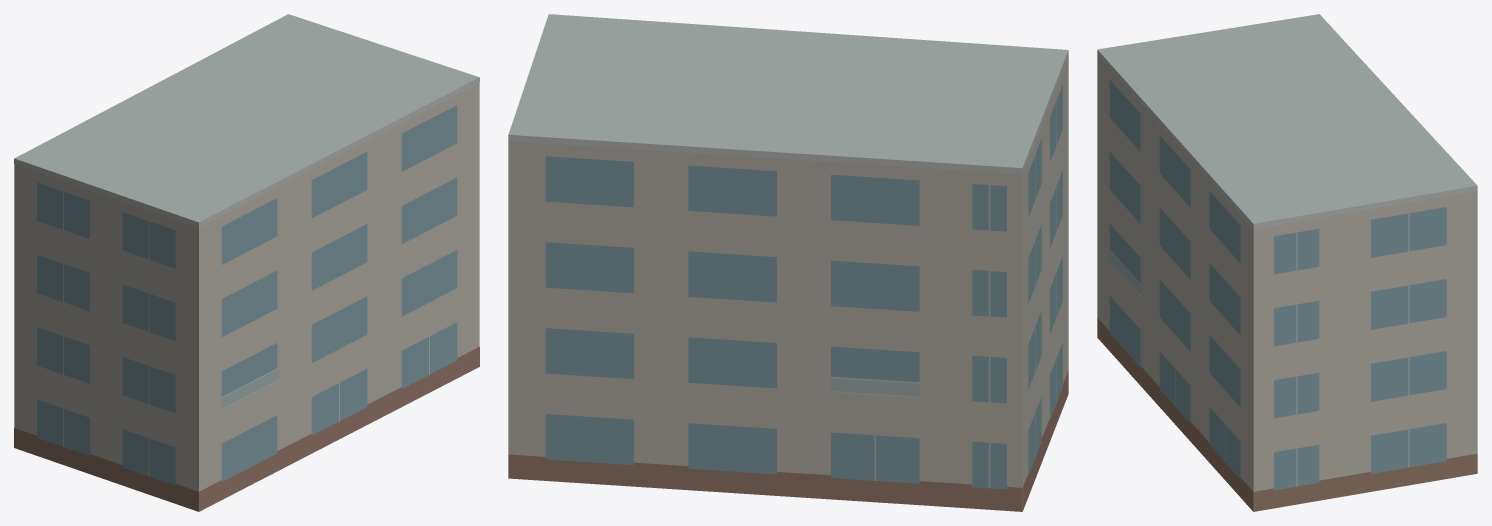
The model's file is survey-upis-33014594.glb.
The picture shows the model from 3 angles, left to right: view 1: azimuth 30°, elevation 25°; view 2: azimuth 150°, elevation 25°; view 3: azimuth 270°, elevation 25°; orthographic projection. The views are drawn at different scales.
Parts seen in each view (by area): view 1: survey-upis-33014594.tmp; view 2: survey-upis-33014594.tmp; view 3: survey-upis-33014594.tmp.
Part boxes in pixels (x1,y1,x2,y2): survey-upis-33014594.tmp: (14,14,479,511); survey-upis-33014594.tmp: (508,14,1068,511); survey-upis-33014594.tmp: (1097,14,1477,511).
Bounding box in the file's own units: 20.17 × 12.9 × 15.45.
